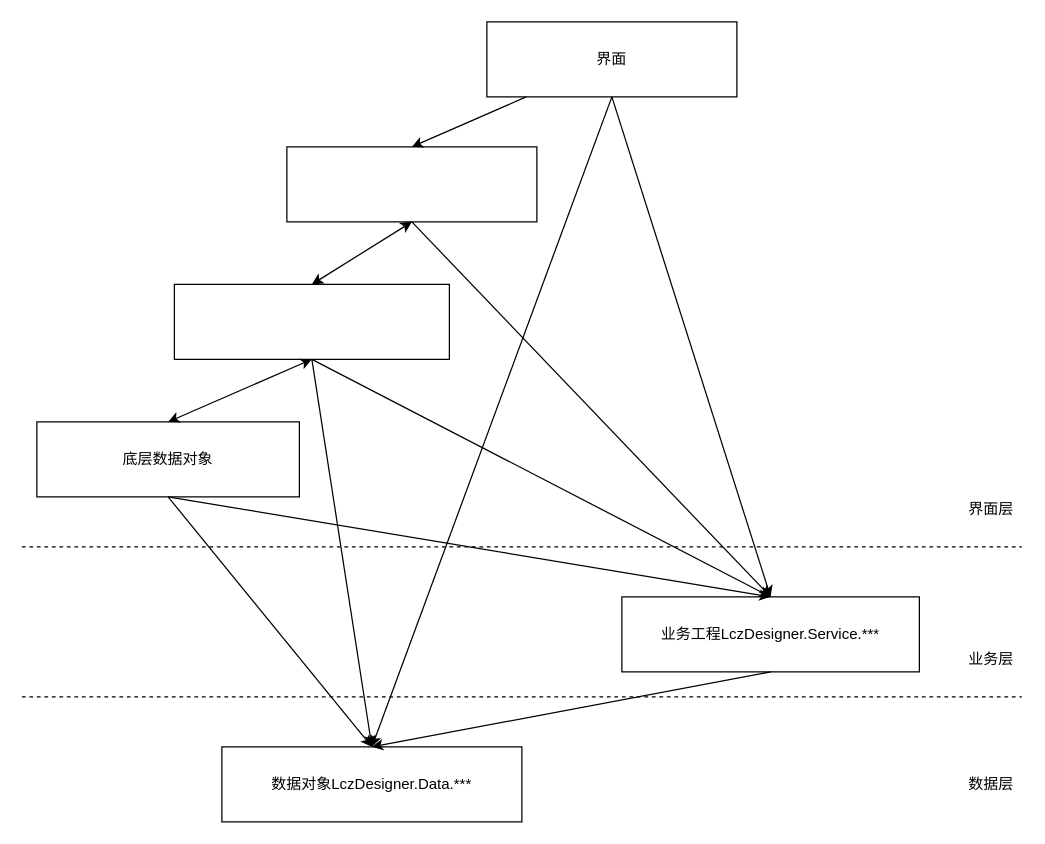
This 1045x844 diagram has some shape labels left out. The shapes that lost their labels are listed below. From the top down, each one's centre as x and y in pixels, then its label:
At point (411, 184): "界面对应的数据对象".
At point (311, 321): "H开头的数据对象".
